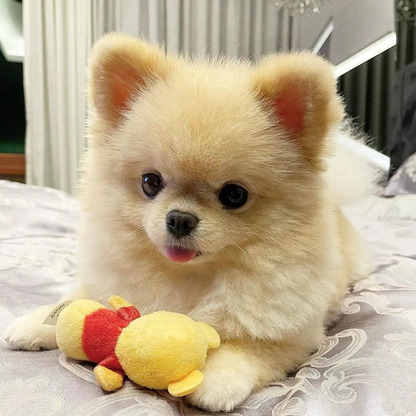Pomeranian: (58, 29, 374, 377)
